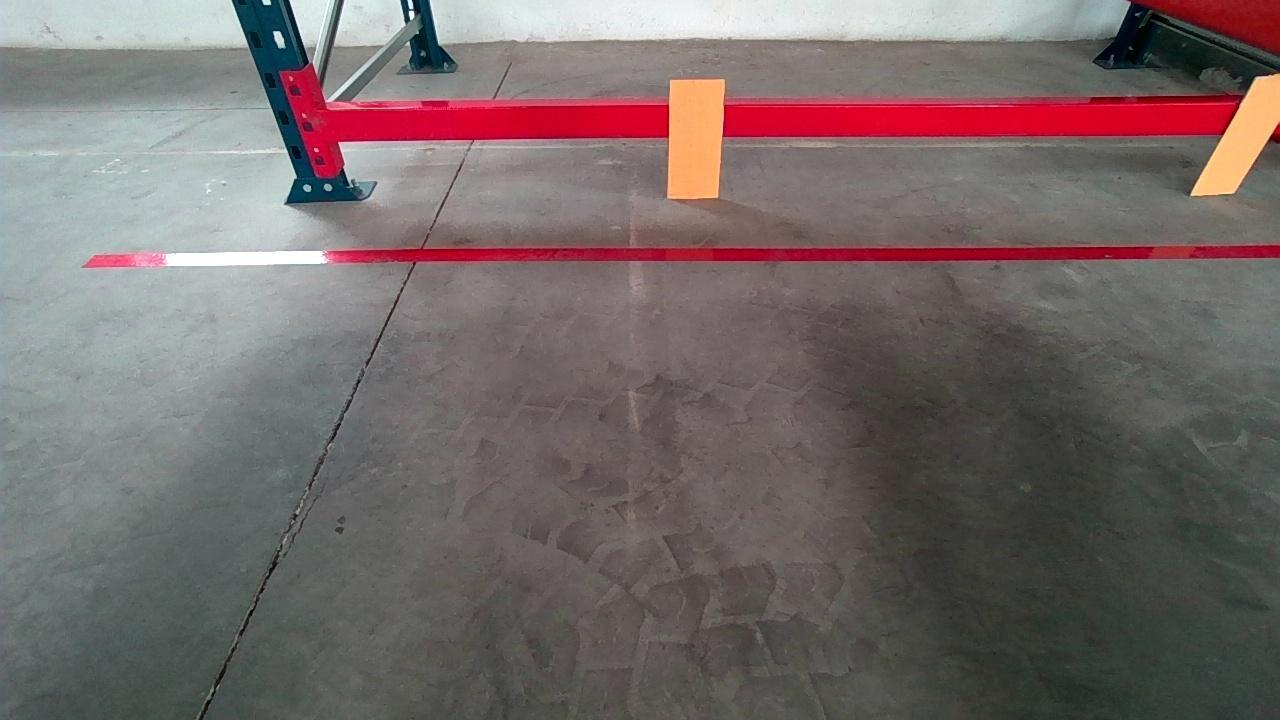h_rack: (328, 91, 1223, 145)
orange_strip: (1193, 71, 1280, 195), (668, 80, 725, 198)
red_line: (91, 244, 1262, 274)
